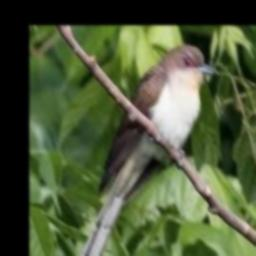Cuckoo: (68, 45, 217, 256)
